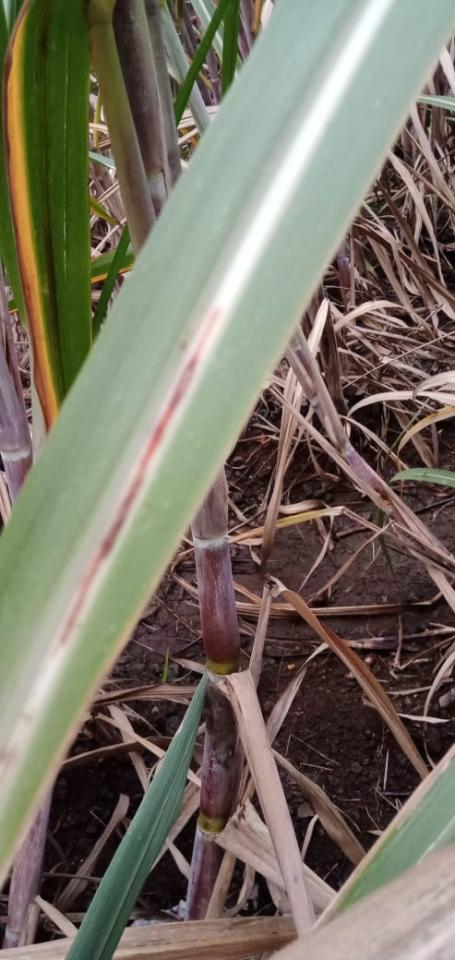RedRot: (56, 306, 221, 650)
Yellow: (3, 0, 59, 435)
